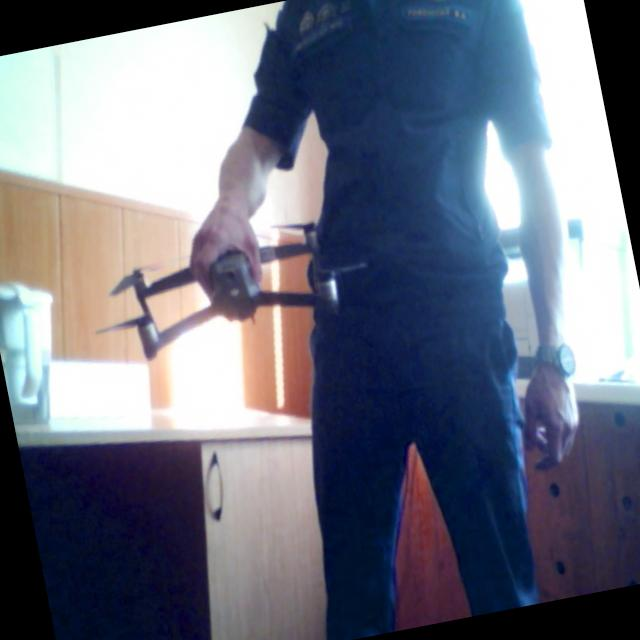drone: (93, 171, 395, 391)
